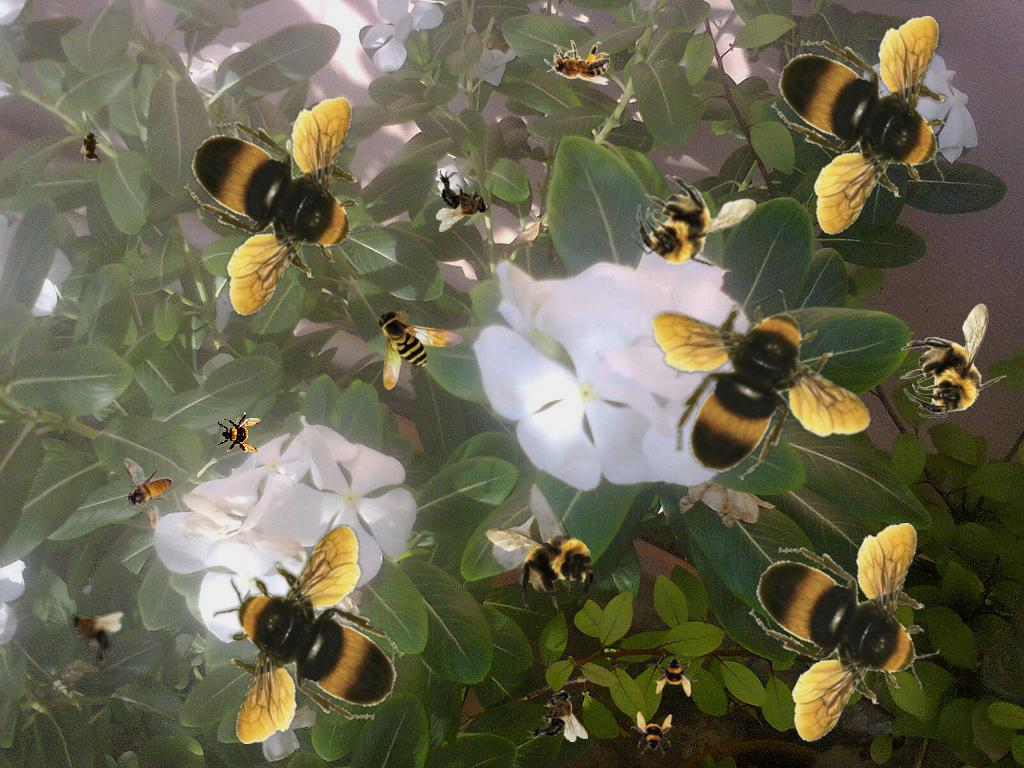Bee: (652, 289, 872, 480), (213, 524, 404, 744), (749, 523, 940, 743), (184, 97, 375, 317), (771, 16, 962, 236), (615, 142, 774, 299), (484, 508, 599, 615), (900, 303, 1007, 418), (376, 308, 464, 390), (56, 594, 129, 672), (123, 458, 173, 529), (526, 689, 588, 742), (436, 170, 489, 232), (544, 40, 610, 85), (630, 711, 674, 755), (654, 653, 698, 697), (217, 411, 261, 455), (80, 126, 102, 166)
